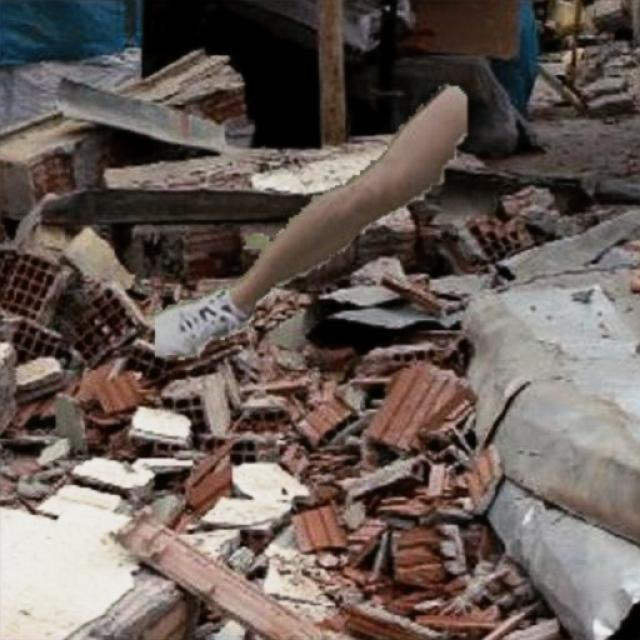Person in Rubble: (155, 84, 466, 358)
